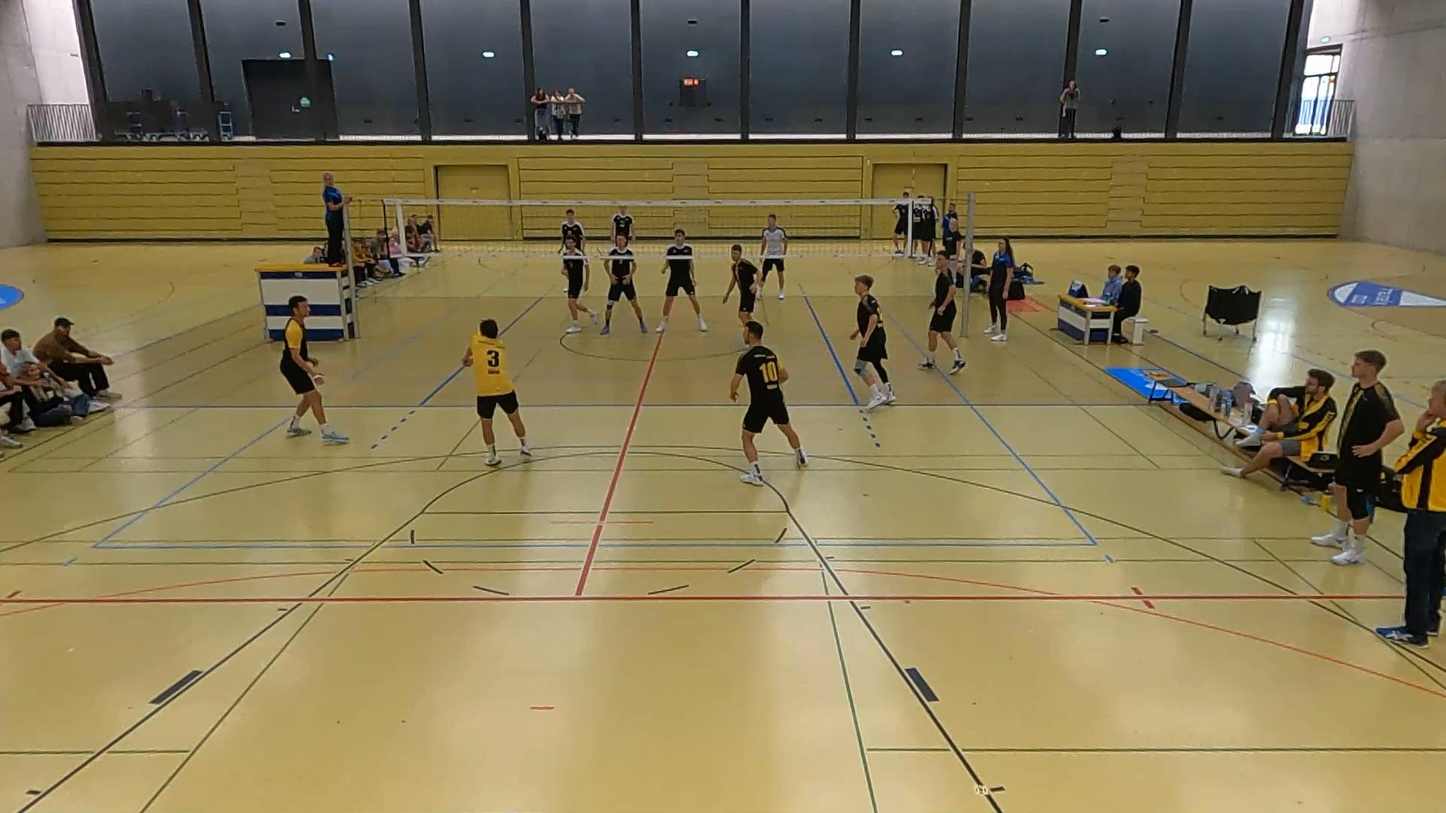ricezione: (452, 312, 536, 472)
